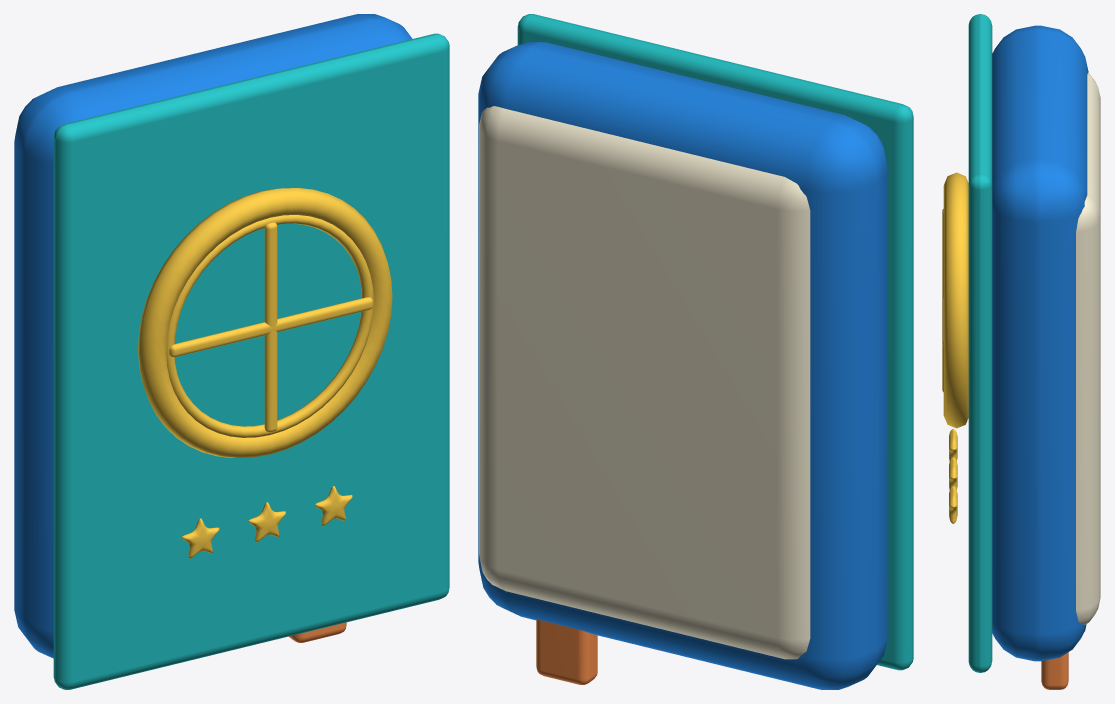
File: passport.glb
The picture shows the model from 3 angles, left to right: view 1: azimuth 30°, elevation 25°; view 2: azimuth 150°, elevation 25°; view 3: azimuth 270°, elevation 25°; orthographic projection. The views are drawn at different scales.
Visible parts, largest first — view 1: Front cover, Passport cover, Passport medallion, Globe longitude, Globe meridian, Globe equator, Travel seal, Travel seal.002, Travel seal.001; view 2: Ivory pages, Passport cover, Front cover, Ribbon bookmark; view 3: Passport cover, Front cover, Ivory pages, Passport medallion, Ribbon bookmark, Travel seal.002, Globe meridian.
Boxes of the visible parts, x1,y1,x2,y2 form: Front cover: (53, 33, 449, 689); Passport cover: (14, 14, 412, 658); Passport medallion: (138, 188, 392, 457); Globe longitude: (166, 215, 373, 437); Globe meridian: (264, 222, 277, 432); Globe equator: (169, 297, 372, 357); Travel seal: (182, 518, 219, 558); Travel seal.002: (315, 486, 352, 526); Travel seal.001: (248, 502, 285, 542); Ivory pages: (479, 106, 810, 659); Passport cover: (478, 42, 887, 689); Front cover: (517, 14, 913, 670); Ribbon bookmark: (536, 619, 597, 684); Passport cover: (992, 25, 1088, 661); Front cover: (968, 14, 992, 672); Ivory pages: (1076, 72, 1100, 624); Passport medallion: (943, 172, 968, 428); Ribbon bookmark: (1041, 652, 1068, 689); Travel seal.002: (949, 486, 957, 523); Globe meridian: (942, 209, 943, 392).
Size of the model in its own units: 1.18 by 1.76 by 0.4675.
